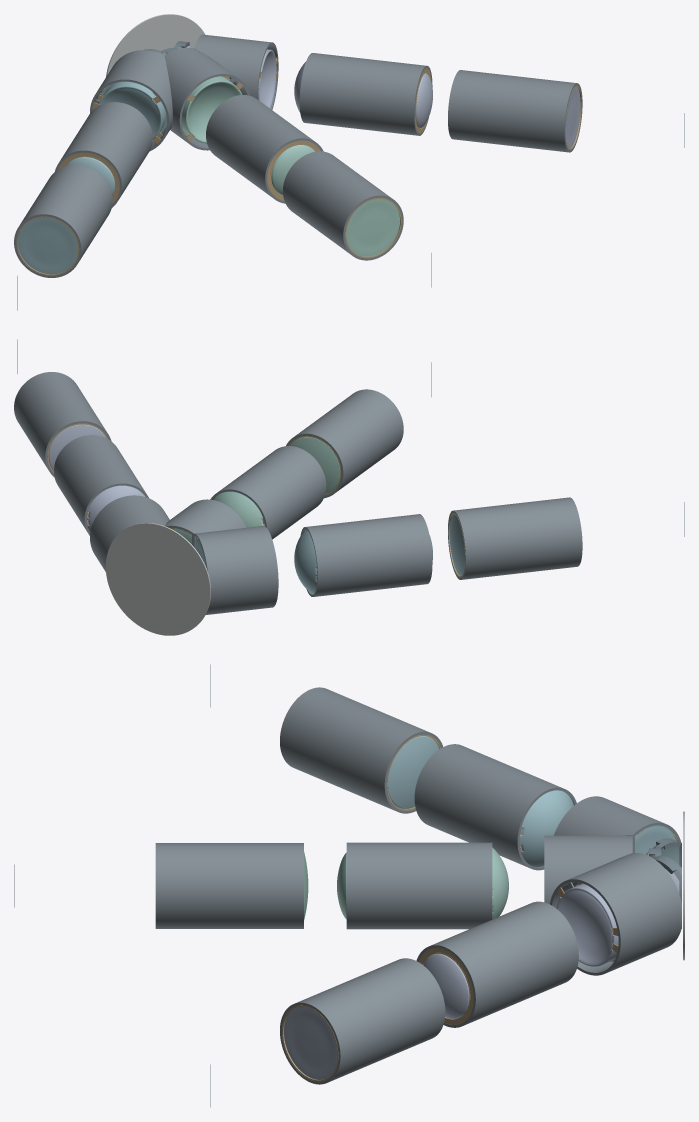
File: 三物镜镜筒装配.glb
3 renders of one model, top to bottom at view 1: azimuth 30°, elevation 25°; view 2: azimuth 150°, elevation 25°; view 3: azimuth 270°, elevation 25°, orthographic. The views are drawn at different scales.
Parts seen in each view (by area): view 1: CH2_后组筒壁_119, CH2_中组筒壁_112, CH0_后组筒壁_65, CH0_中组筒壁_58, CH1_后组筒壁_173, CH1_中组筒壁_166, CH0_前组筒壁_47, CH1_L16_134, CH2_前组筒壁_101, CH1_前组筒壁_155, REF_WAFER, CH0_L16_26 (+9 smaller); view 2: REF_WAFER, CH1_后组筒壁_173, CH1_中组筒壁_166, CH1_前组筒壁_155, CH0_后组筒壁_65, CH0_中组筒壁_58, CH2_后组筒壁_119, CH2_中组筒壁_112, CH2_前组筒壁_101, CH0_前组筒壁_47, CH0_L12_22, CH1_L06_124 (+4 smaller); view 3: CH0_后组筒壁_65, CH0_中组筒壁_58, CH2_后组筒壁_119, CH1_后组筒壁_173, CH2_中组筒壁_112, CH1_中组筒壁_166, CH2_前组筒壁_101, CH0_前组筒壁_47, CH2_L05_69, CH1_前组筒壁_155, CH2_L16_80, CH1_L06_124 (+5 smaller).
Part boxes in pixels (x1,y1,x2,y2): CH2_后组筒壁_119: (448, 70, 582, 152); CH2_中组筒壁_112: (299, 53, 432, 135); CH0_后组筒壁_65: (283, 151, 403, 260); CH0_中组筒壁_58: (206, 95, 323, 203); CH1_后组筒壁_173: (14, 165, 112, 277); CH1_中组筒壁_166: (55, 102, 152, 207); CH0_前组筒壁_47: (164, 47, 249, 150); CH1_L16_134: (17, 217, 77, 274); CH2_前组筒壁_101: (194, 34, 278, 109); CH1_前组筒壁_155: (90, 50, 172, 151); REF_WAFER: (106, 14, 204, 76); CH0_L16_26: (346, 199, 399, 256); REF_WAFER: (105, 523, 210, 635); CH1_后组筒壁_173: (448, 497, 582, 579); CH1_中组筒壁_166: (300, 514, 432, 596); CH1_前组筒壁_155: (194, 526, 278, 614); CH0_后组筒壁_65: (286, 389, 403, 498); CH0_中组筒壁_58: (210, 446, 326, 539); CH2_后组筒壁_119: (14, 372, 111, 477); CH2_中组筒壁_112: (54, 435, 148, 535); CH2_前组筒壁_101: (90, 495, 169, 571); CH0_前组筒壁_47: (165, 499, 246, 546); CH0_L12_22: (290, 437, 340, 493); CH1_L06_124: (294, 529, 317, 594); CH0_后组筒壁_65: (155, 843, 303, 928); CH0_中组筒壁_58: (346, 842, 492, 929); CH2_后组筒壁_119: (280, 958, 445, 1084); CH1_后组筒壁_173: (280, 687, 443, 813); CH2_中组筒壁_112: (416, 901, 578, 1027); CH1_中组筒壁_166: (414, 744, 576, 870); CH2_前组筒壁_101: (550, 853, 681, 975); CH0_前组筒壁_47: (544, 835, 632, 904); CH2_L05_69: (556, 883, 618, 966); CH1_前组筒壁_155: (554, 796, 681, 852); CH2_L16_80: (284, 1007, 337, 1079); CH1_L06_124: (519, 790, 573, 866).
Bounding box in the file's own units: 0.995 × 0.156 × 0.7055.
